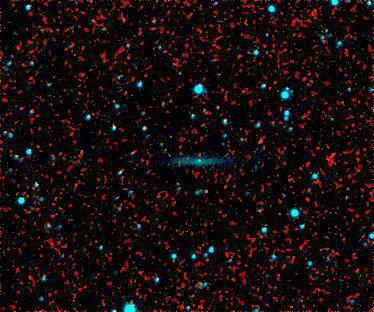star: (191, 174, 221, 204)
